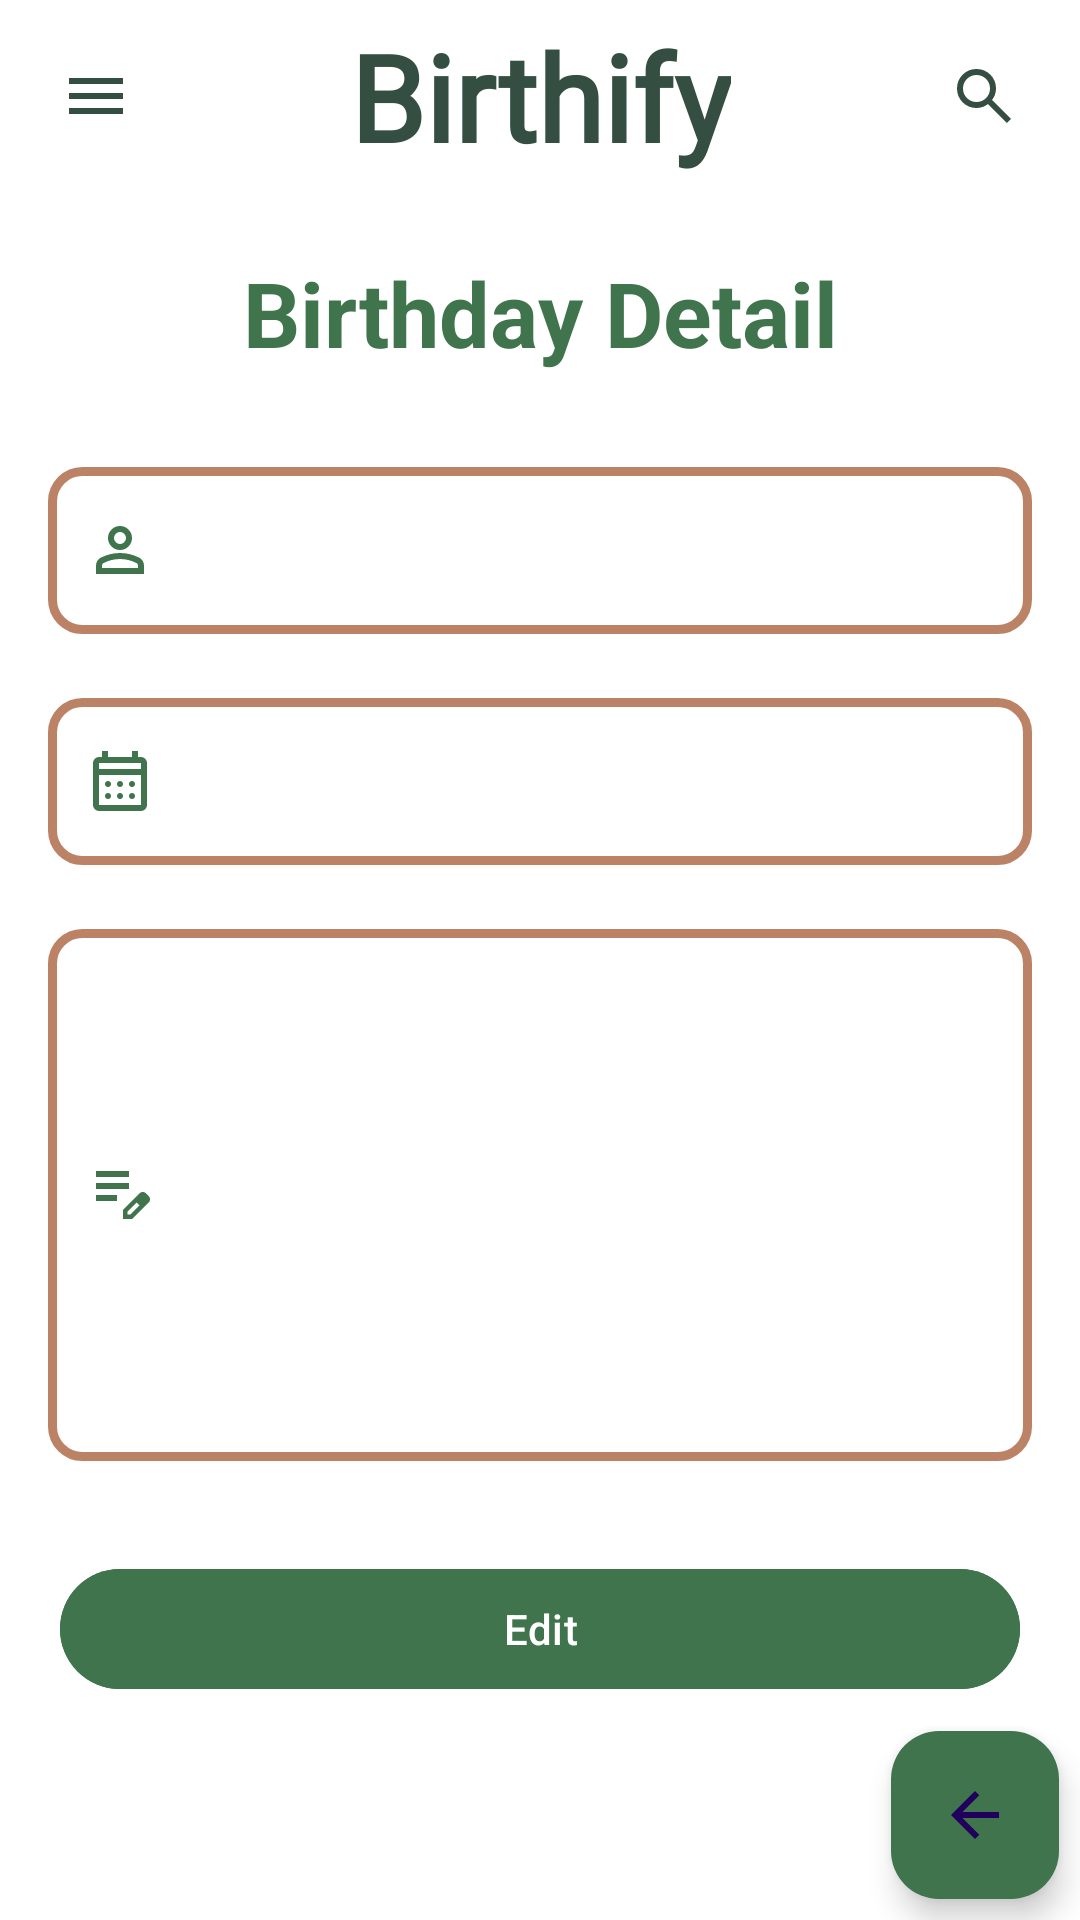

Screen size 1080px x 1920px. Icon name, then its center in pixels as [x,y]:
Back Button: [975,1815]
Toolbar Menu Three Lines: [96,96]
